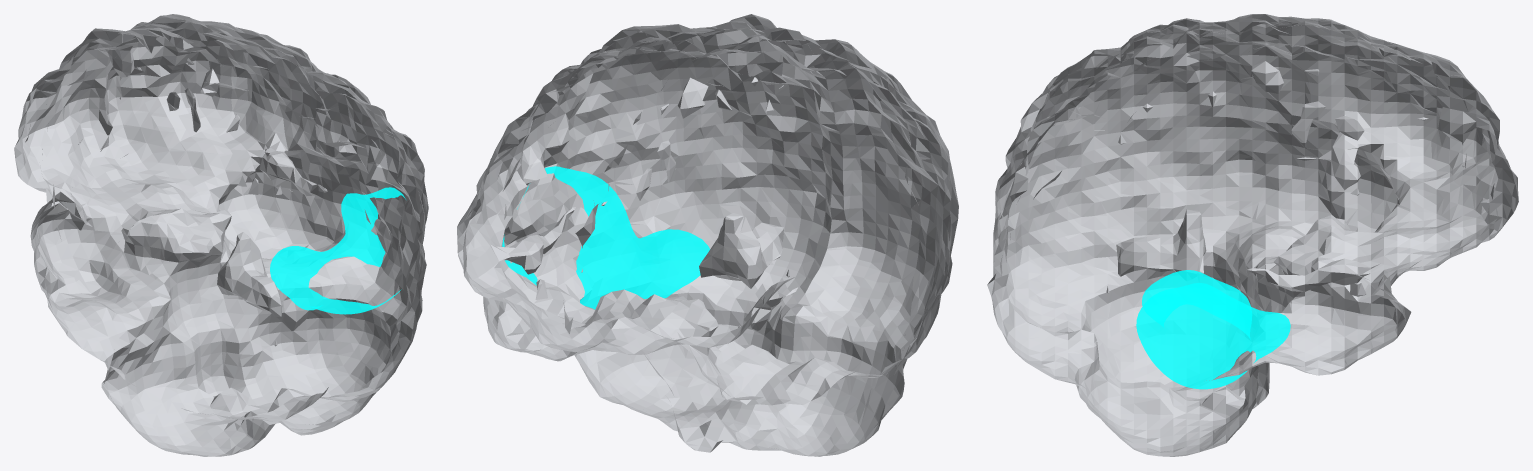
The model's file is sub-PID22_prediction_ar_model.glb.
3 renders of one model, left to right at view 1: azimuth 30°, elevation 25°; view 2: azimuth 150°, elevation 25°; view 3: azimuth 270°, elevation 25°, orthographic. The views are drawn at different scales.
Visible parts, largest first — view 1: Brain_Cortex, Predicted_Hotspot; view 2: Brain_Cortex, Predicted_Hotspot; view 3: Brain_Cortex, Predicted_Hotspot.
Part boxes in pixels (<box>): Brain_Cortex: <box>14,14,428,456</box>; Predicted_Hotspot: <box>270,187,405,314</box>; Brain_Cortex: <box>457,14,958,456</box>; Predicted_Hotspot: <box>502,166,709,309</box>; Brain_Cortex: <box>987,14,1518,456</box>; Predicted_Hotspot: <box>1136,270,1290,389</box>.
Size of the model in its own units: 0.127 by 0.1288 by 0.1615.
